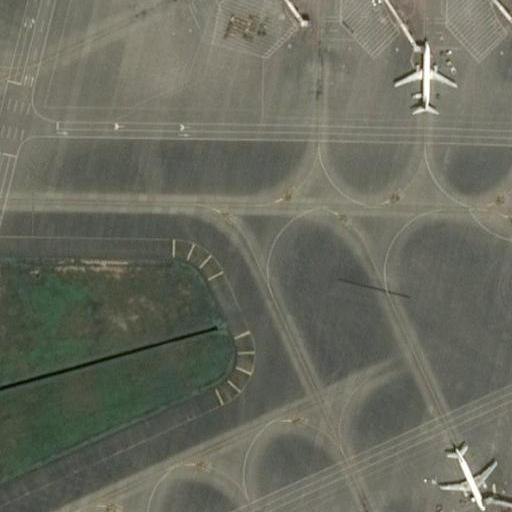Aircraft: (390, 35, 458, 115), (435, 440, 493, 509)
